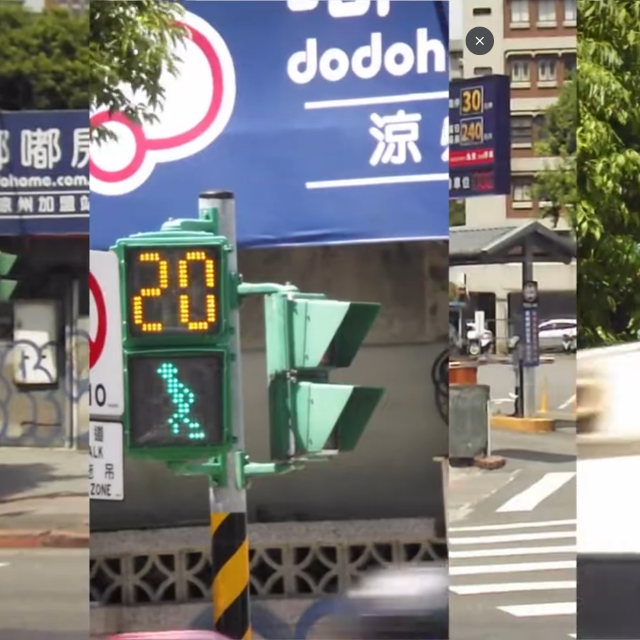green_light: (117, 237, 232, 452)
